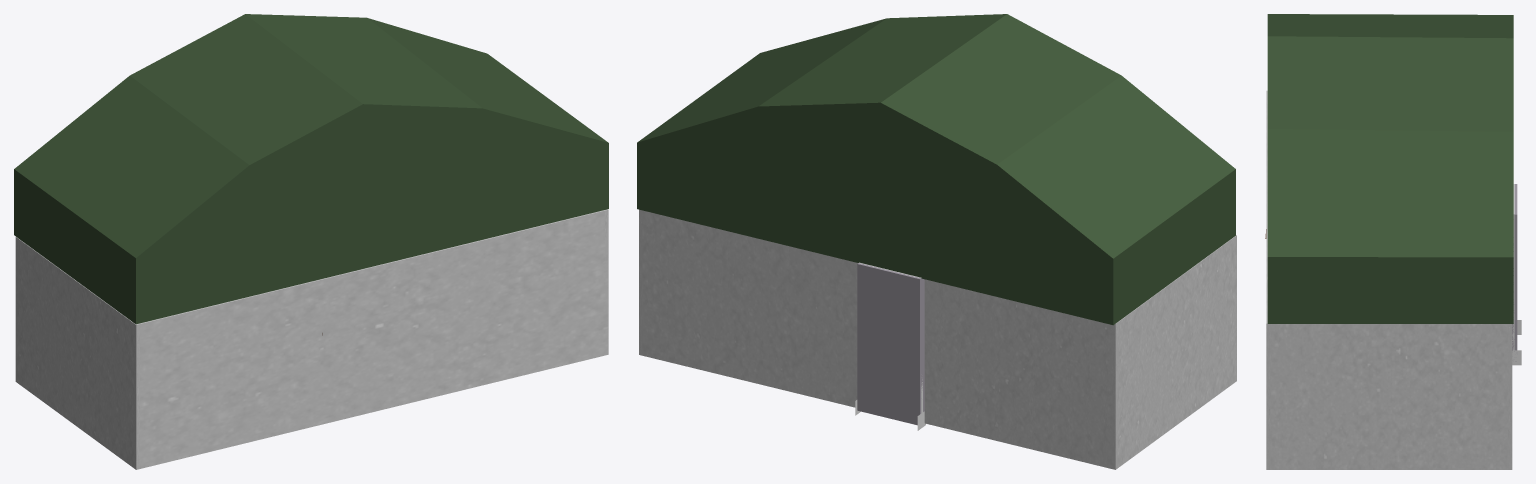
File: CASA.fbx
3 views of the same model, side by side, from view 1: azimuth 30°, elevation 25°; view 2: azimuth 150°, elevation 25°; view 3: azimuth 270°, elevation 25° (orthographic).
Visible parts, largest first — view 1: Cube, Floor; view 2: Cube, Floor, CTRL_Hole; view 3: Cube, Floor, CTRL_Hole, DoorFrame.
Part boxes in pixels (x1=…): Cube: x1=14, y1=14, x2=608, y2=324; Floor: x1=15, y1=209, x2=608, y2=469; Cube: x1=637, y1=14, x2=1235, y2=325; Floor: x1=639, y1=209, x2=1236, y2=469; CTRL_Hole: x1=857, y1=263, x2=924, y2=425; Cube: x1=1267, y1=14, x2=1513, y2=323; Floor: x1=1265, y1=90, x2=1512, y2=469; CTRL_Hole: x1=1512, y1=184, x2=1517, y2=361; DoorFrame: x1=1512, y1=184, x2=1514, y2=361.
Bounding box in the file's own units: 1336 × 845 × 619.
Materials: 4 (1 with a texture image).
